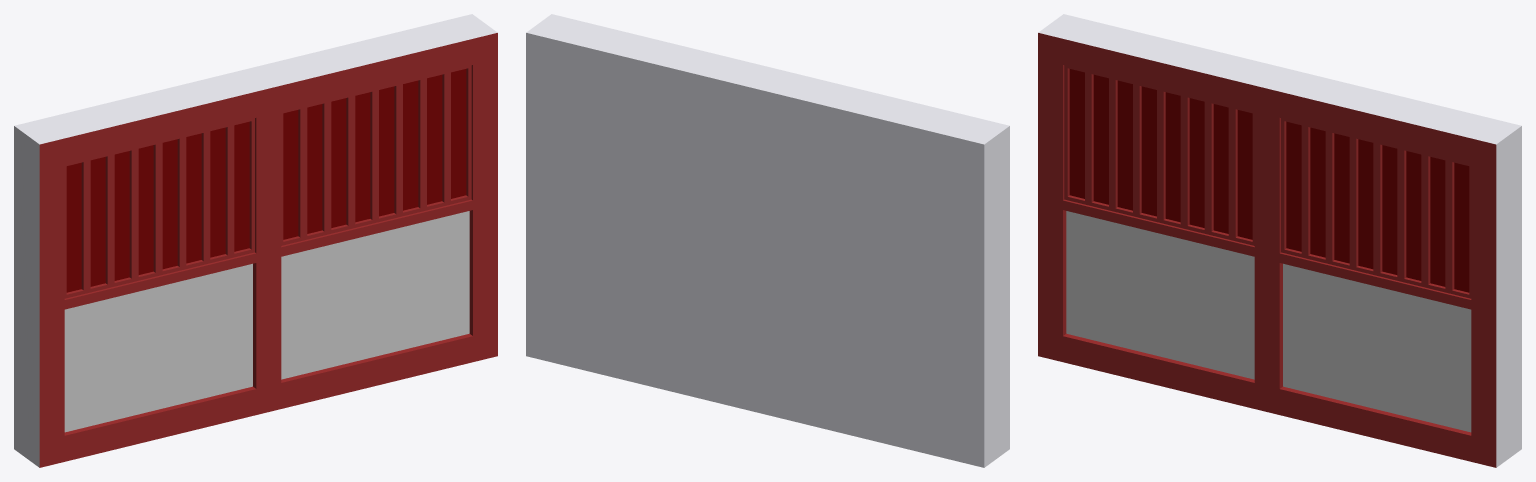
Rendered from Asian_Prop_Building_Modular_Wall_Slats_01.FBX.
3 renders of one model, left to right at view 1: azimuth 30°, elevation 25°; view 2: azimuth 150°, elevation 25°; view 3: azimuth 330°, elevation 25°, orthographic.
Parts seen in each view (by area): view 1: Asian_Prop_Building_Modular_Wall_Slats_01; view 2: Asian_Prop_Building_Modular_Wall_Slats_01; view 3: Asian_Prop_Building_Modular_Wall_Slats_01.
Boxes of the visible parts, <box> form: Asian_Prop_Building_Modular_Wall_Slats_01: <box>14,14,497,467</box>; Asian_Prop_Building_Modular_Wall_Slats_01: <box>526,14,1009,467</box>; Asian_Prop_Building_Modular_Wall_Slats_01: <box>1038,14,1521,467</box>.
Size of the model in its own units: 5167 by 3485 by 500.
